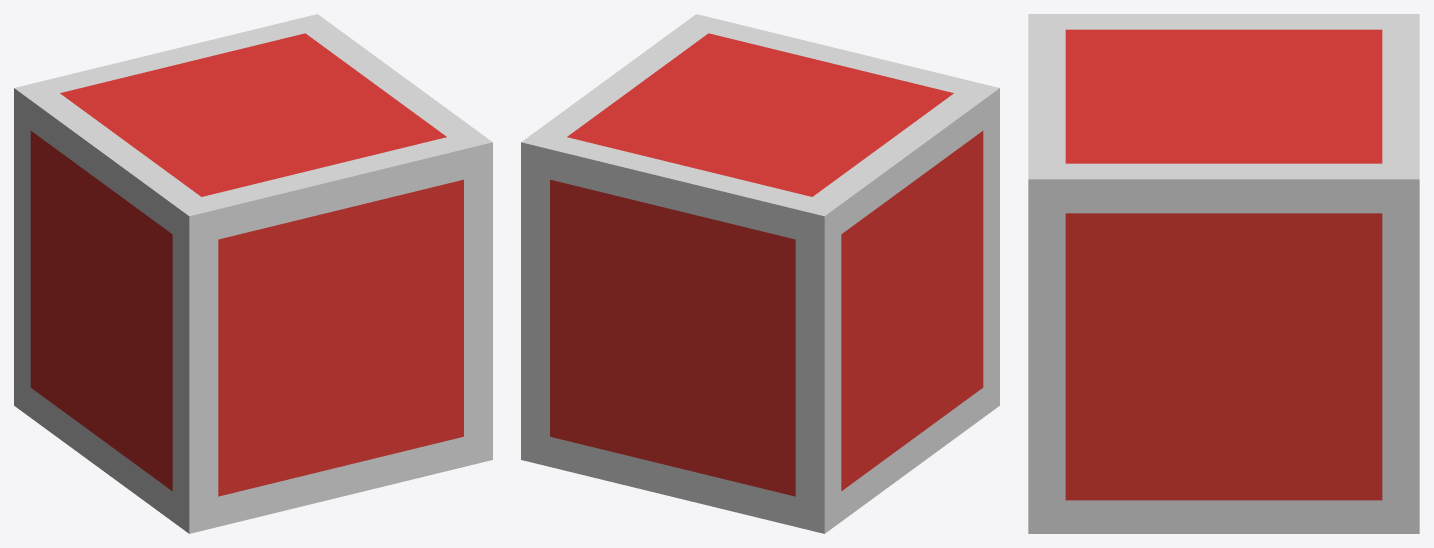
The picture shows the model from 3 angles, left to right: view 1: azimuth 30°, elevation 25°; view 2: azimuth 150°, elevation 25°; view 3: azimuth 270°, elevation 25°; orthographic projection. The views are drawn at different scales.
Parts seen in each view (by area): view 1: cube; view 2: cube; view 3: cube.
Part boxes in pixels (bbox=[...]): cube: bbox=[14, 14, 492, 533]; cube: bbox=[521, 14, 999, 533]; cube: bbox=[1028, 14, 1419, 533].
Size of the model in its own units: 2 by 2 by 2.
